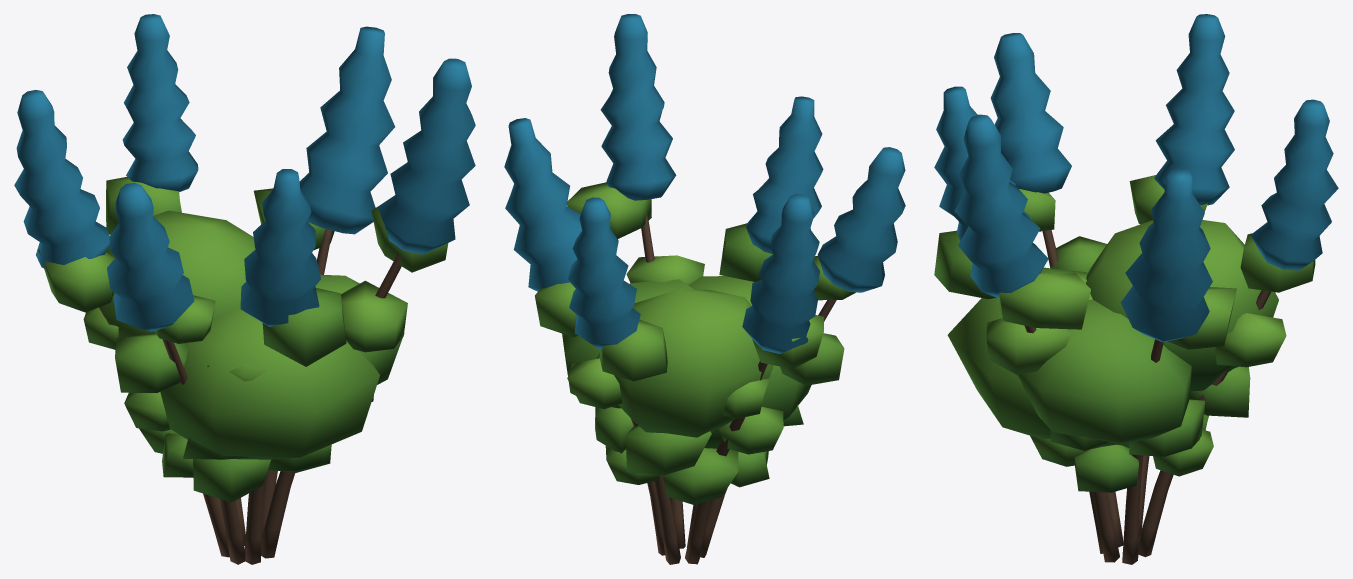
The model's file is flowershrub.lod0.glb.
The picture shows the model from 3 angles, left to right: view 1: azimuth 30°, elevation 25°; view 2: azimuth 150°, elevation 25°; view 3: azimuth 270°, elevation 25°; orthographic projection. The views are drawn at different scales.
Parts seen in each view (by area): view 1: flowershrub_s1_lod0; view 2: flowershrub_s1_lod0; view 3: flowershrub_s1_lod0.
Part boxes in pixels (<box>): flowershrub_s1_lod0: <box>14,14,475,564</box>; flowershrub_s1_lod0: <box>504,14,905,564</box>; flowershrub_s1_lod0: <box>934,14,1338,564</box>.
Size of the model in its own units: 1.11 by 1.52 by 1.12.
